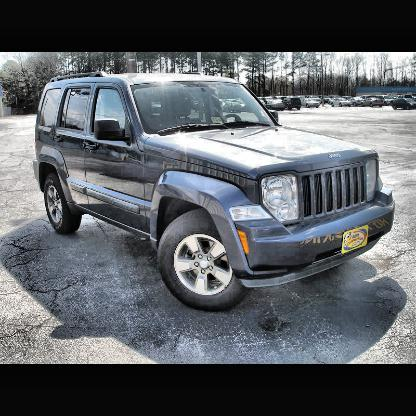Jeep Liberty SUV 2012: (33, 72, 395, 315)
